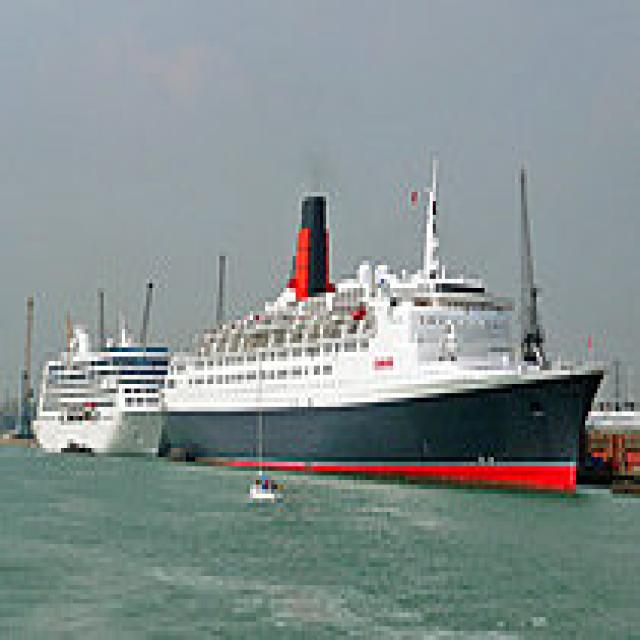Cruise: (156, 146, 604, 494), (24, 306, 177, 457)
